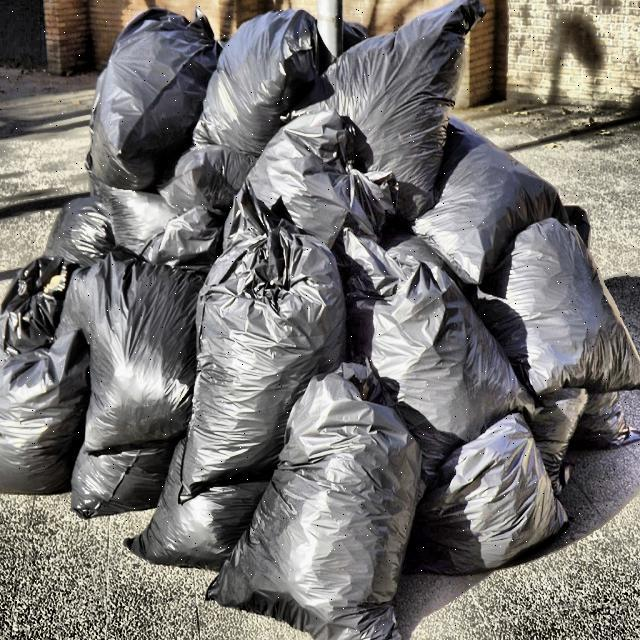Trashbag: (237, 394, 420, 634), (191, 234, 349, 426), (361, 258, 518, 443), (79, 261, 207, 456), (75, 23, 219, 177), (510, 226, 639, 396), (433, 424, 563, 584), (228, 112, 374, 248), (342, 19, 457, 191), (197, 9, 316, 160), (137, 440, 271, 568), (109, 144, 240, 270), (416, 146, 544, 270), (0, 327, 93, 496), (37, 196, 117, 278)
